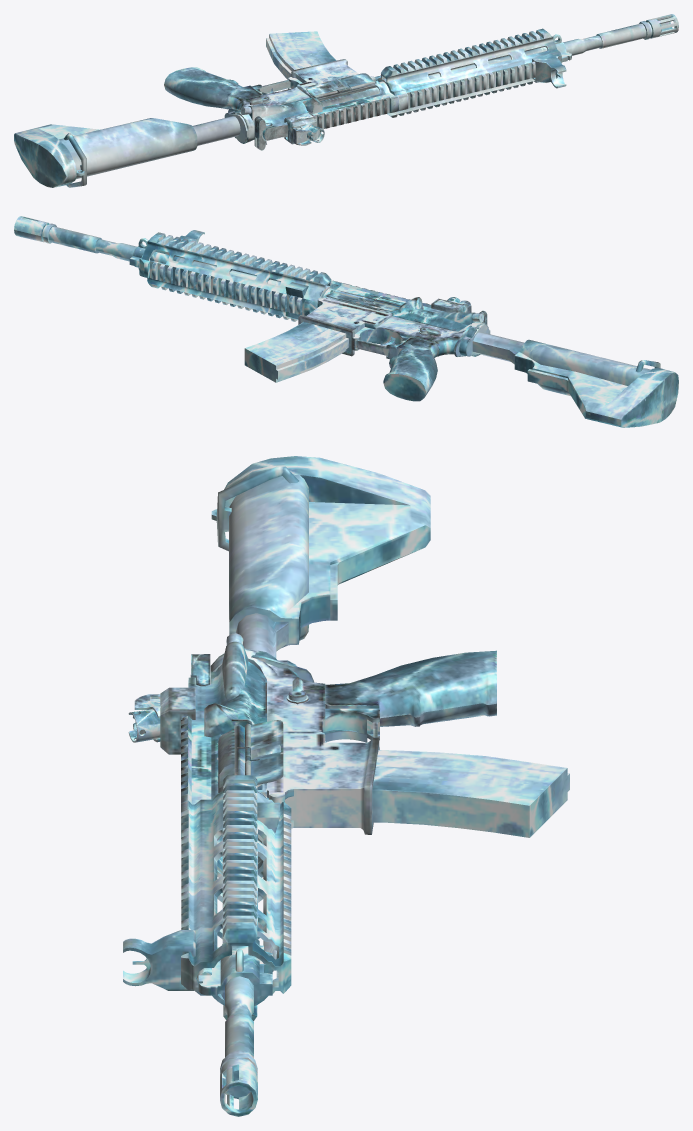
Rendered from M4 glacier.fbx.
3 renders of one model, top to bottom at view 1: azimuth 30°, elevation 25°; view 2: azimuth 150°, elevation 25°; view 3: azimuth 270°, elevation 25°, orthographic. The views are drawn at different scales.
Parts seen in each view (by area): view 1: main, back, magazine, aim; view 2: main, back, magazine, aim; view 3: main, back, magazine, aim.
Boxes of the visible parts, x1,y1,x2,y2 form: main: (164, 14, 678, 150); back: (14, 108, 240, 187); magazine: (266, 31, 336, 79); aim: (284, 53, 566, 145); main: (14, 216, 490, 401); back: (454, 325, 678, 427); magazine: (244, 321, 348, 382); aim: (180, 230, 471, 312); main: (181, 633, 496, 1116); back: (211, 456, 430, 682); magazine: (372, 750, 569, 837); aim: (123, 687, 195, 990).
Bounding box in the file's own units: 92.77 × 7.54 × 28.94.
4 materials, 4 textured.
